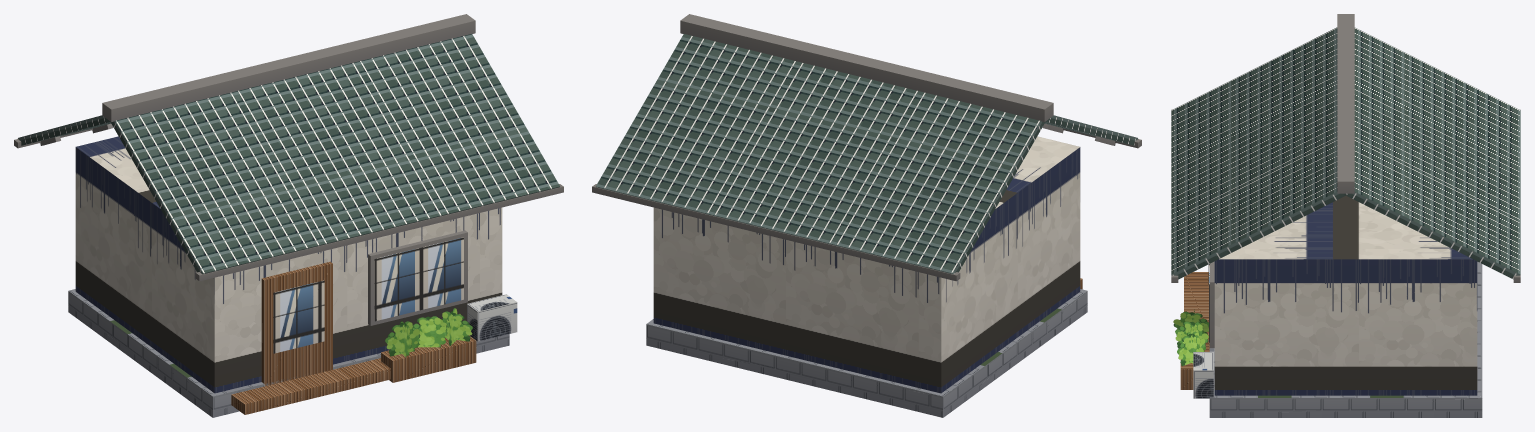
Rendered from tokyo_house_1f.glb.
3 renders of one model, left to right at view 1: azimuth 30°, elevation 25°; view 2: azimuth 150°, elevation 25°; view 3: azimuth 270°, elevation 25°, orthographic. The views are drawn at different scales.
Parts seen in each view (by area): view 1: tokyo_house_1f; view 2: tokyo_house_1f; view 3: tokyo_house_1f.
Part boxes in pixels (<box>): tokyo_house_1f: <box>14,14,563,417</box>; tokyo_house_1f: <box>592,14,1141,417</box>; tokyo_house_1f: <box>1171,14,1520,417</box>.
Bounding box in the file's own units: 7.85 × 5.5 × 6.94.
8 materials, 7 textured.
